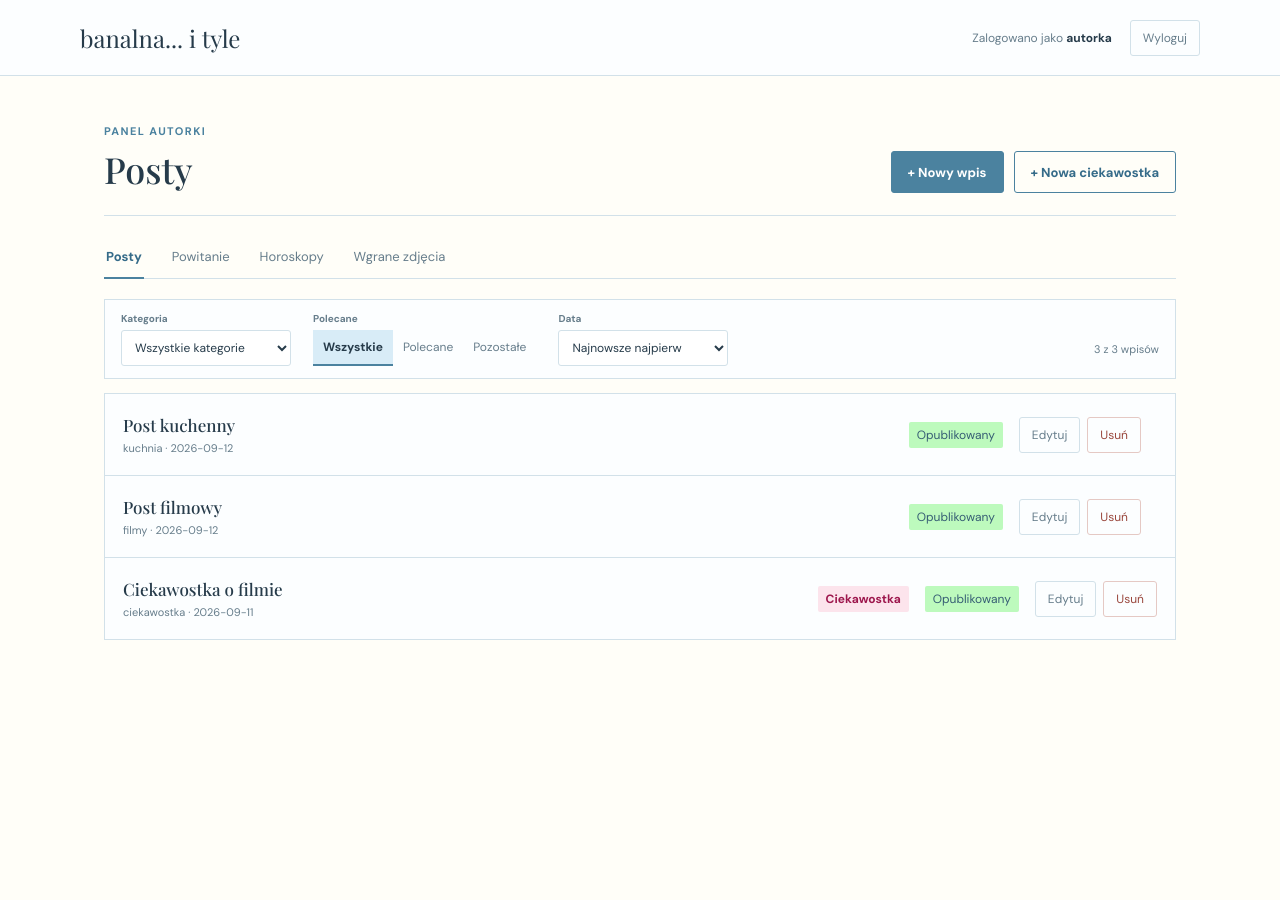
Test: AuthorDashboard › loads the author post list and filters it by category
Expected: the heading "Post kuchenny" is shown, [123,414,235,436]
Expected: the heading "Post filmowy" is shown, [123,496,222,518]
Select "ciekawostka" in the dropdown labelled "Kategoria" at [206, 348], box [121,330,291,366]
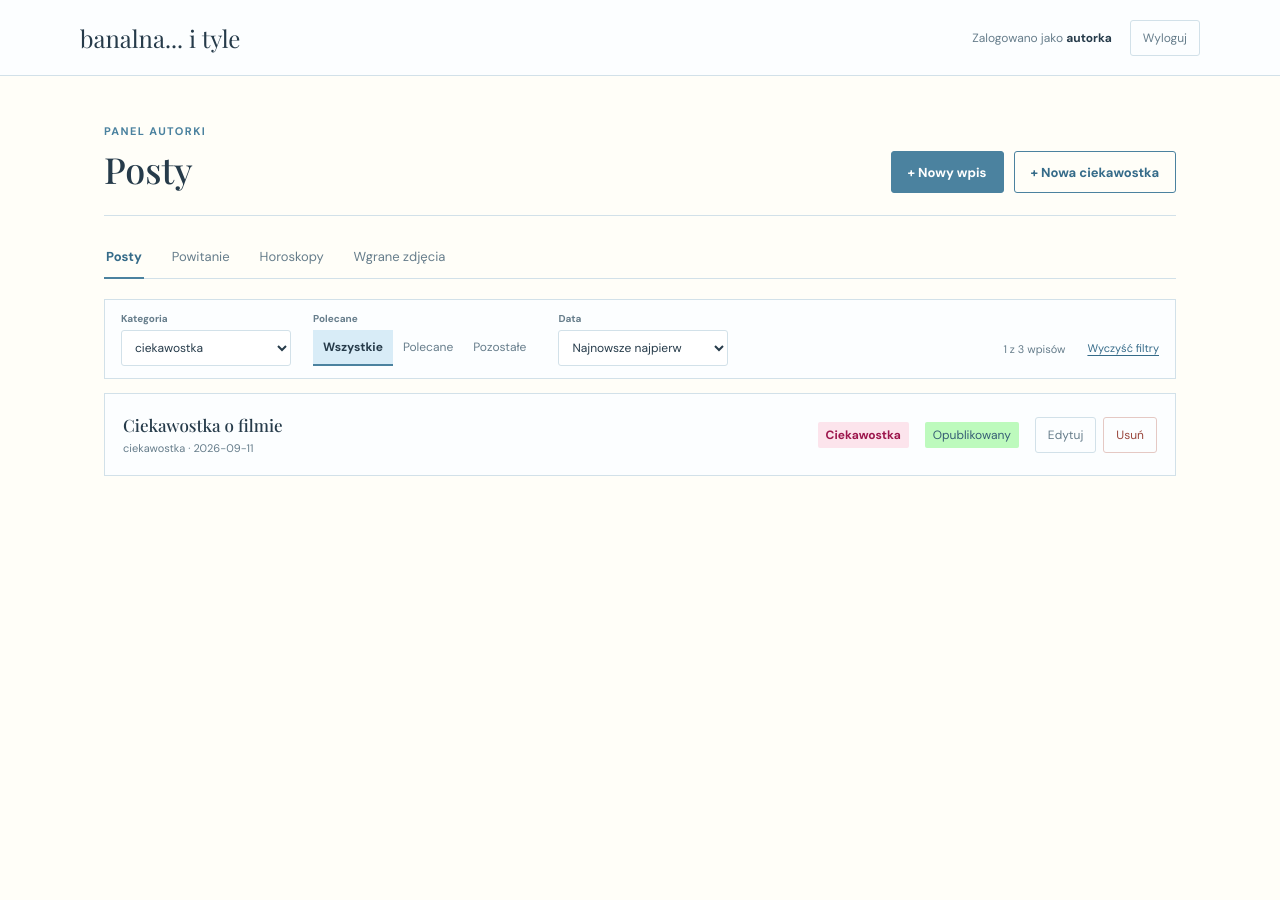
Now the heading "Post filmowy" is gone
Now the heading "Post kuchenny" is gone
Now the message reads "1 z 3 wpisów", box [1004,342,1065,356]
